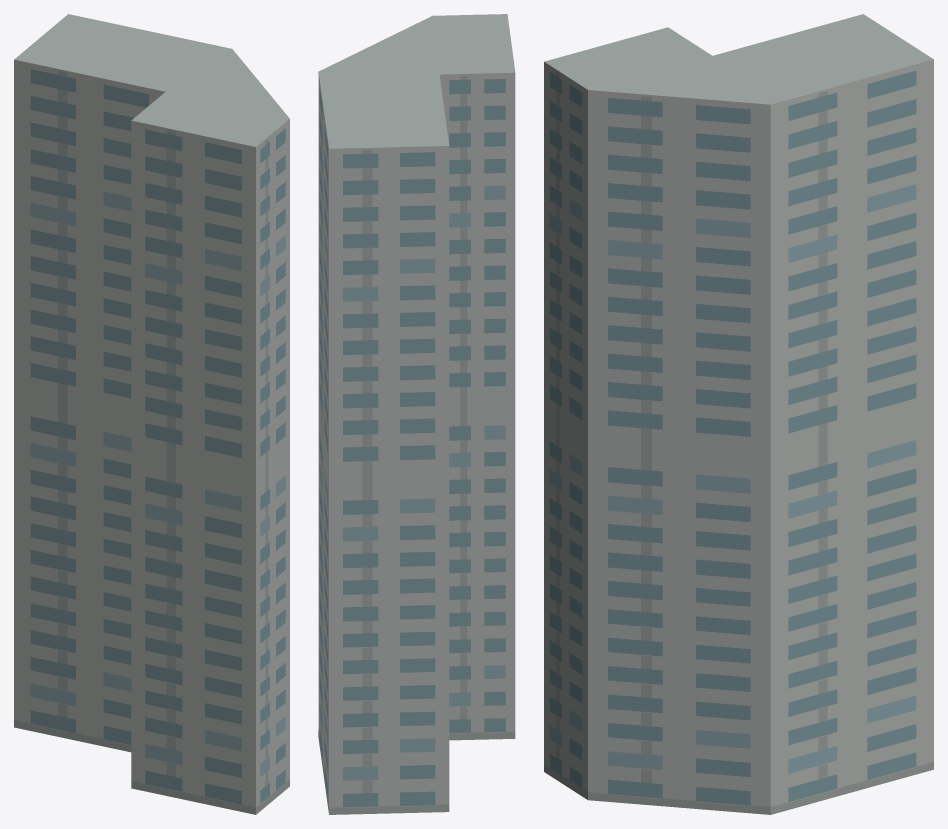
Rendered from residential-4db147b1-c060-4c53-aa82-37194f4e87da.glb.
The picture shows the model from 3 angles, left to right: view 1: azimuth 30°, elevation 25°; view 2: azimuth 150°, elevation 25°; view 3: azimuth 270°, elevation 25°; orthographic projection. The views are drawn at different scales.
Visible parts, largest first — view 1: residential-4db147b1-c060-4c53-aa82-37194f4e87da.tmp; view 2: residential-4db147b1-c060-4c53-aa82-37194f4e87da.tmp; view 3: residential-4db147b1-c060-4c53-aa82-37194f4e87da.tmp.
Part boxes in pixels (x1,y1,x2,y2): residential-4db147b1-c060-4c53-aa82-37194f4e87da.tmp: [14, 14, 289, 814]; residential-4db147b1-c060-4c53-aa82-37194f4e87da.tmp: [318, 14, 515, 814]; residential-4db147b1-c060-4c53-aa82-37194f4e87da.tmp: [544, 14, 933, 814].
Bounding box in the file's own units: 23.28 × 85 × 42.29.
